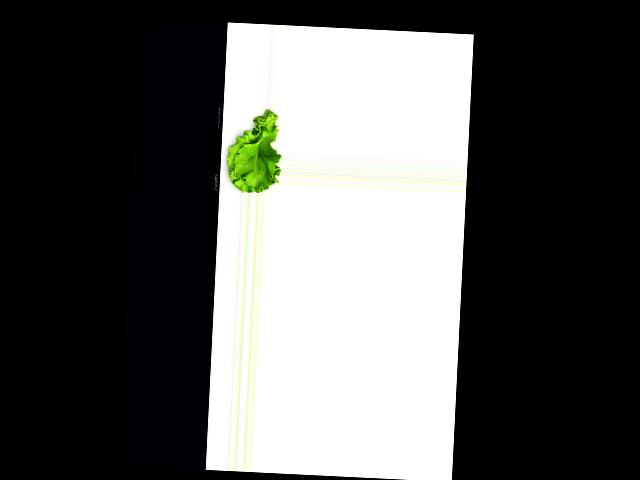lettuce: (221, 109, 284, 194)
